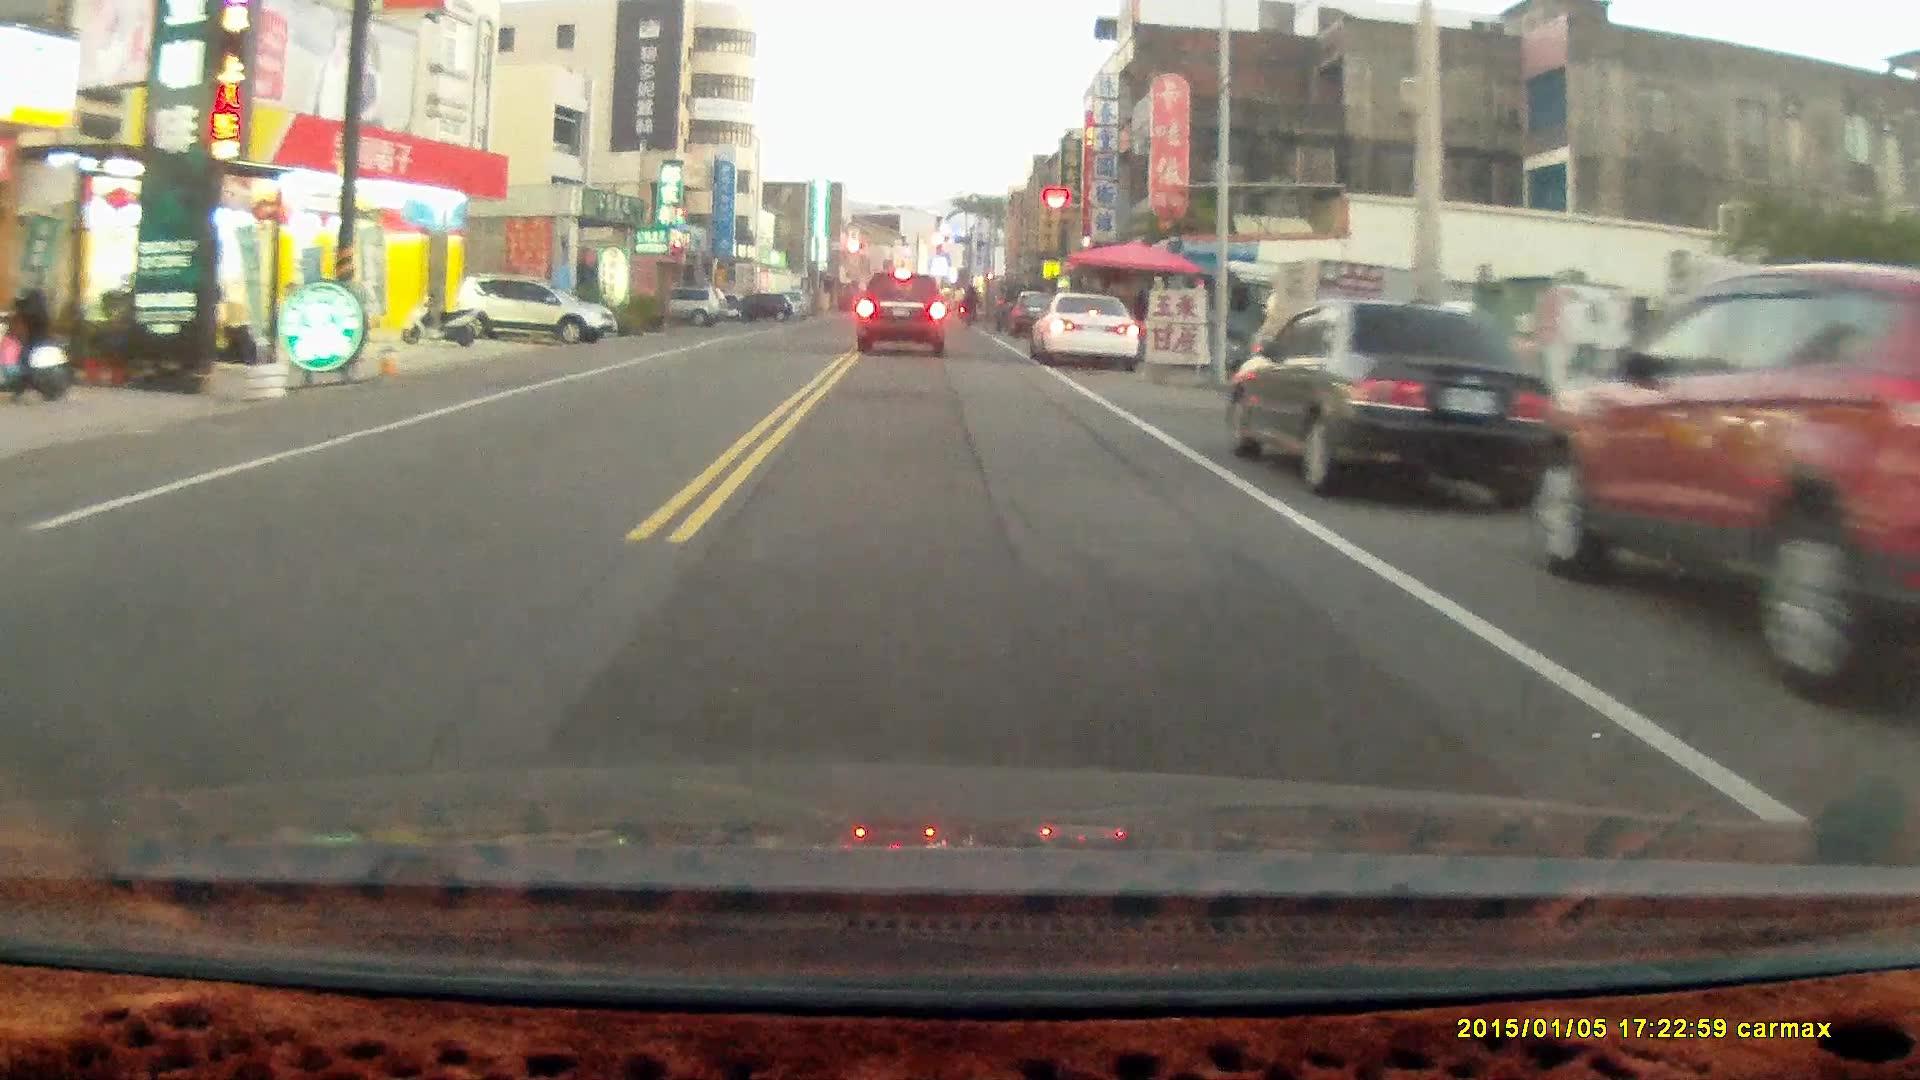vehicle: (1538, 261, 1920, 724), (1222, 299, 1567, 501), (1245, 256, 1425, 431), (455, 273, 620, 343), (1031, 295, 1145, 375), (856, 272, 947, 360)
